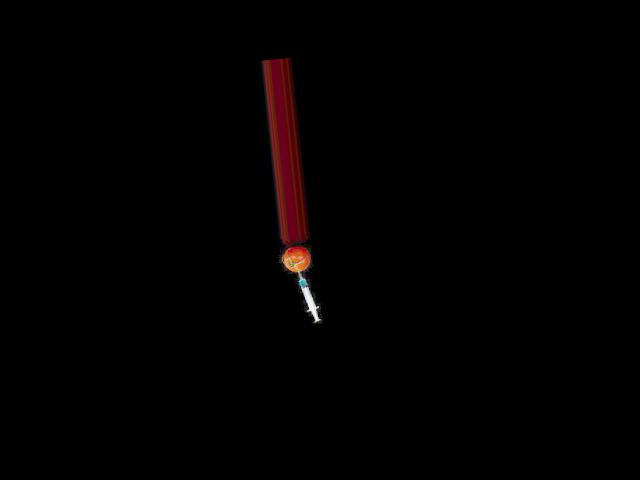tomato: (281, 245, 312, 273)
